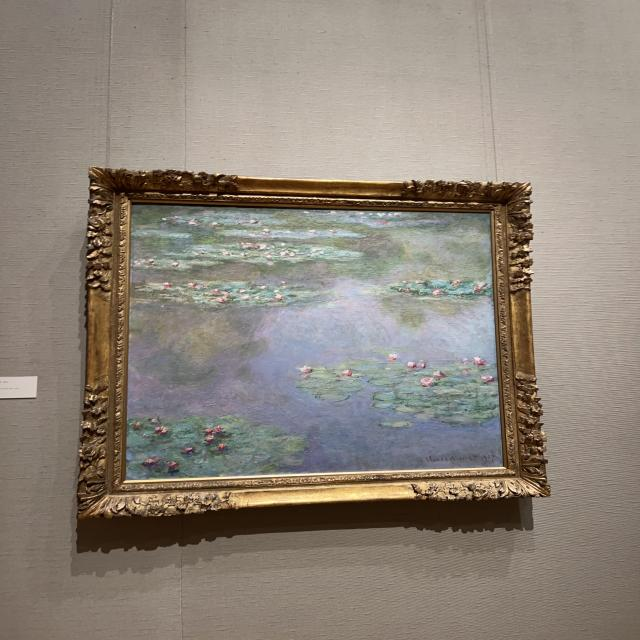lilies: (126, 203, 502, 480)
